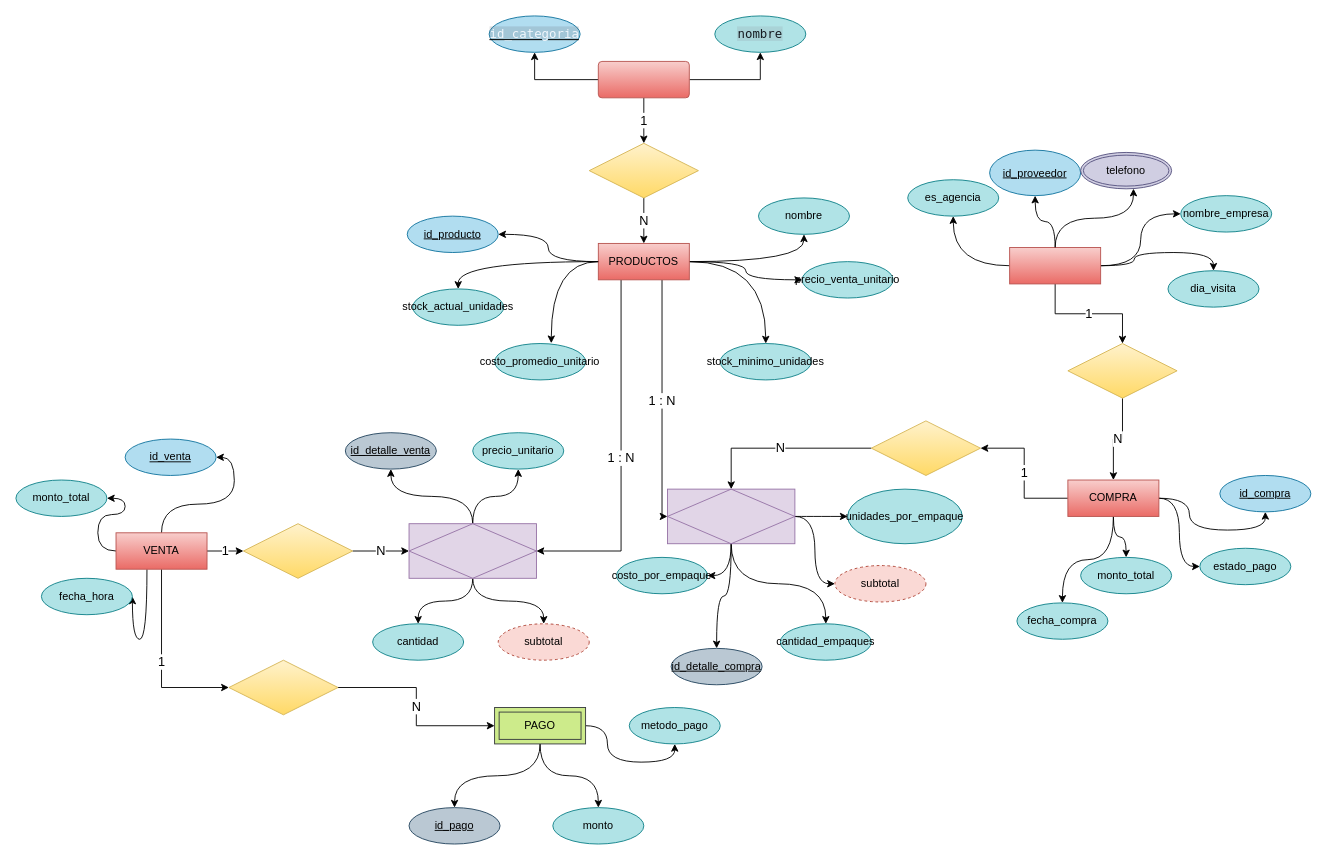
The diagram is 1327 pixels wide and 860 high, and some of its shapes have lost their labels. The shapes that lost their labels are listed below. From the top down, each one's centre as x and y in pixels, then its label:
the point at 643,79: CATEGORIA
the point at 643,170: Clasifica
the point at 1055,265: PROVEEDOR
the point at 1122,370: Provee
the point at 925,447: Contiene
the point at 731,516: DETALLE_COMPRA
the point at 298,550: Registra
the point at 472,550: DETALLE_VENTA
the point at 283,687: Se paga
